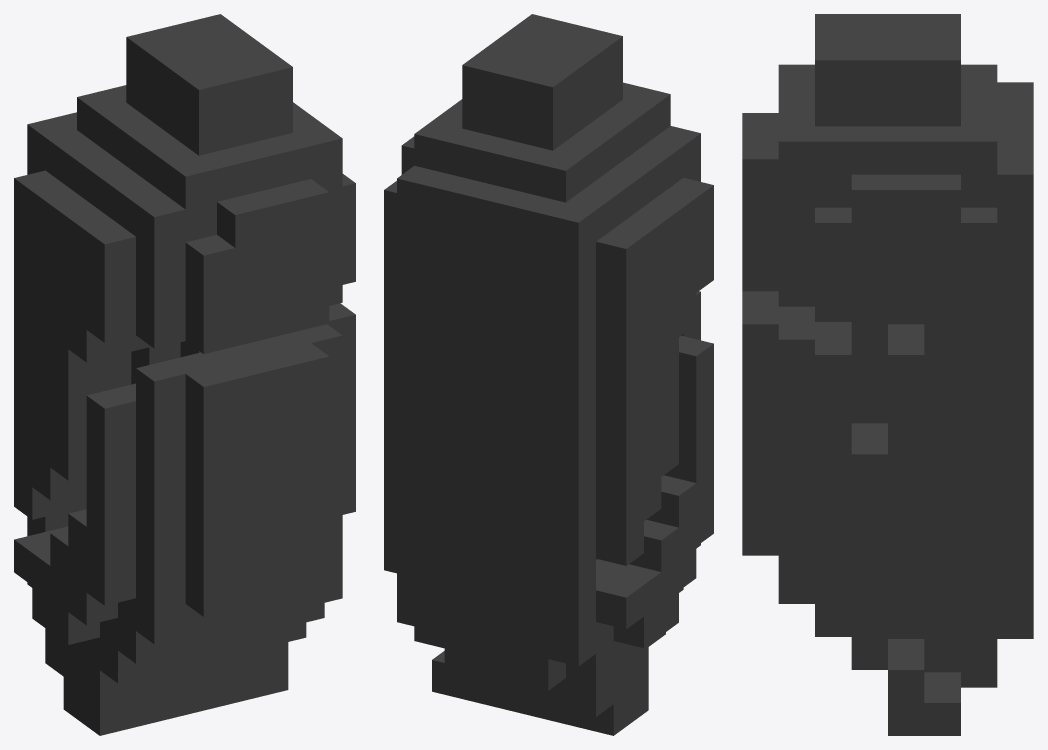
File: antebraco-1.obj
3 views of the same model, side by side, from view 1: azimuth 30°, elevation 25°; view 2: azimuth 150°, elevation 25°; view 3: azimuth 270°, elevation 25° (orthographic). The views are drawn at different scales.
Size of the model in its own units: 0.8 by 2 by 0.8.
1 material, 1 textured.
